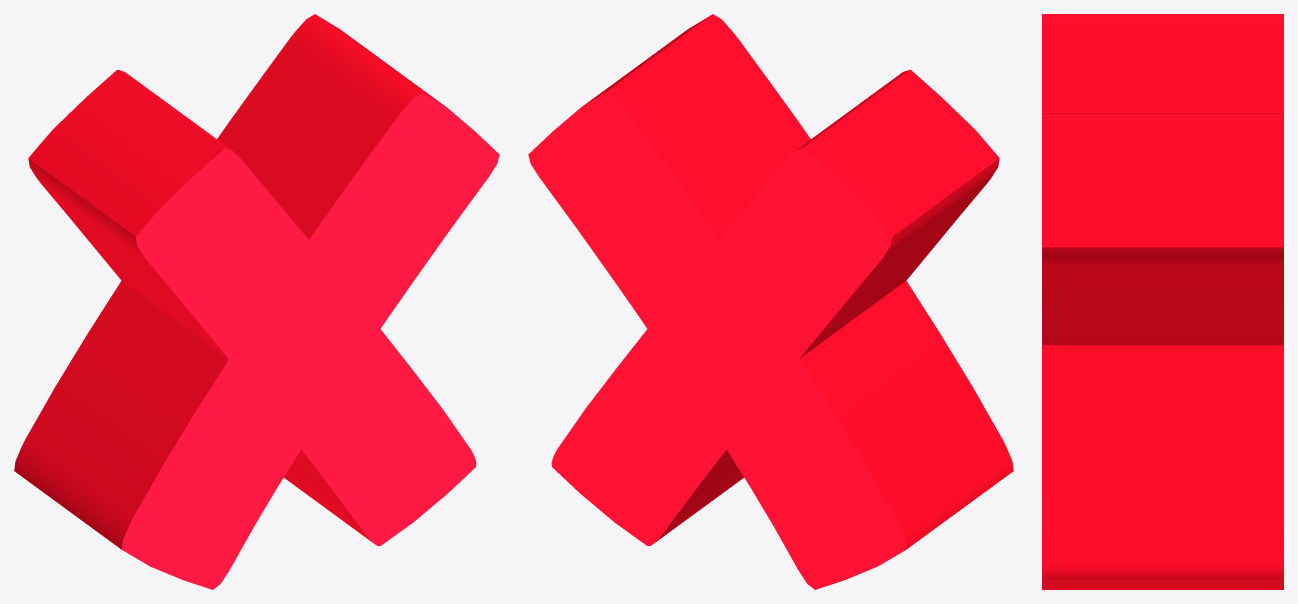
The model's file is X_Zyzol_Red.glb.
The picture shows the model from 3 angles, left to right: view 1: azimuth 30°, elevation 25°; view 2: azimuth 150°, elevation 25°; view 3: azimuth 270°, elevation 25°; orthographic projection. The views are drawn at different scales.
Parts seen in each view (by area): view 1: x_Zyzol_Red; view 2: x_Zyzol_Red; view 3: x_Zyzol_Red.
Part boxes in pixels (x1=…): x_Zyzol_Red: x1=14, y1=14, x2=499, y2=589; x_Zyzol_Red: x1=528, y1=14, x2=1013, y2=589; x_Zyzol_Red: x1=1042, y1=14, x2=1283, y2=589.
Size of what is drawn, in the model's own units: 0.0913 by 0.103 by 0.045.
2 materials, 2 textured.
